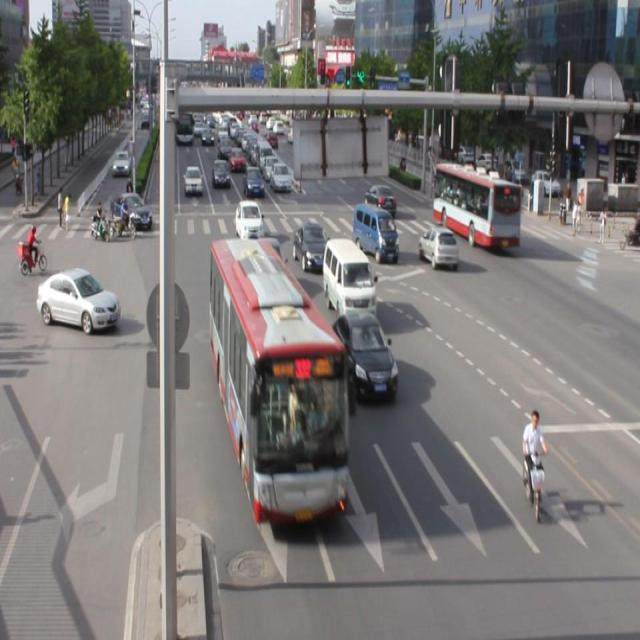car: (331, 307, 398, 399), (294, 224, 331, 271), (418, 227, 458, 270), (235, 199, 266, 241)
truck: (322, 236, 376, 320), (353, 202, 397, 260)
van: (211, 237, 348, 526), (432, 165, 519, 246)
